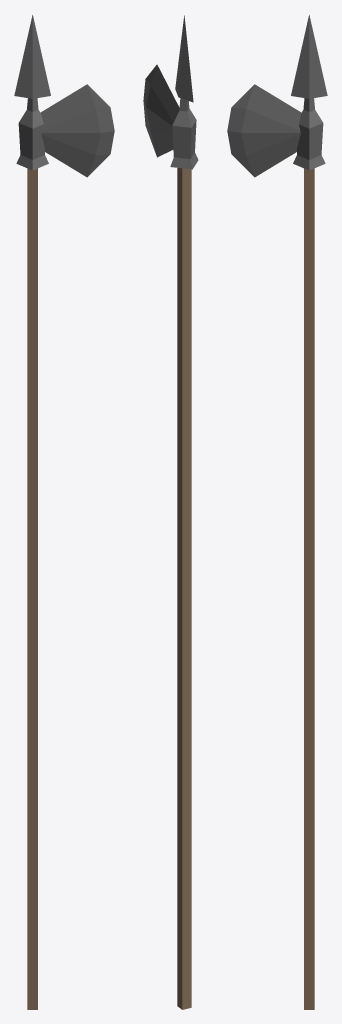
File: Spear_06.fbx
3 views of the same model, side by side, from view 1: azimuth 90°, elevation 25°; view 2: azimuth 210°, elevation 25°; view 3: azimuth 270°, elevation 25° (orthographic).
Parts seen in each view (by area): view 1: Spear_06; view 2: Spear_06; view 3: Spear_06.
Boxes of the visible parts, <box> form: Spear_06: <box>14,15,114,1009</box>; Spear_06: <box>143,15,198,1009</box>; Spear_06: <box>227,15,327,1009</box>.
Bounding box in the file's own units: 2.23 × 74.57 × 6.83.
